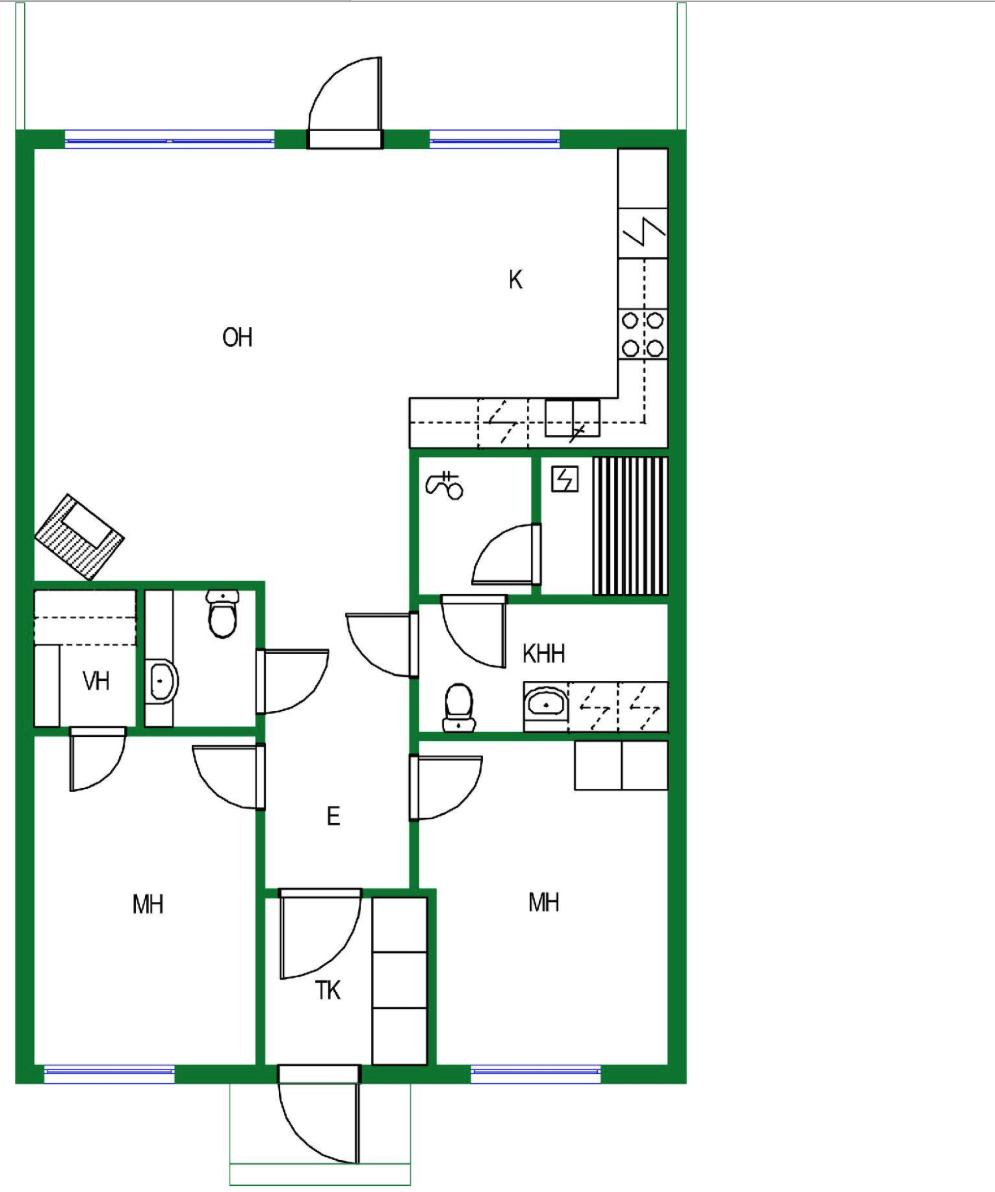bathroom: (416, 605, 575, 738), (143, 588, 254, 726)
door: (275, 1049, 368, 1170), (299, 50, 390, 154), (272, 880, 363, 983), (434, 585, 517, 675), (181, 738, 270, 816), (337, 608, 428, 683), (245, 642, 333, 719), (473, 517, 547, 588), (65, 724, 129, 797)
perimeter: (10, 124, 691, 1087)
window: (48, 121, 289, 162), (410, 116, 574, 162), (30, 1056, 184, 1097), (451, 1058, 622, 1094)
